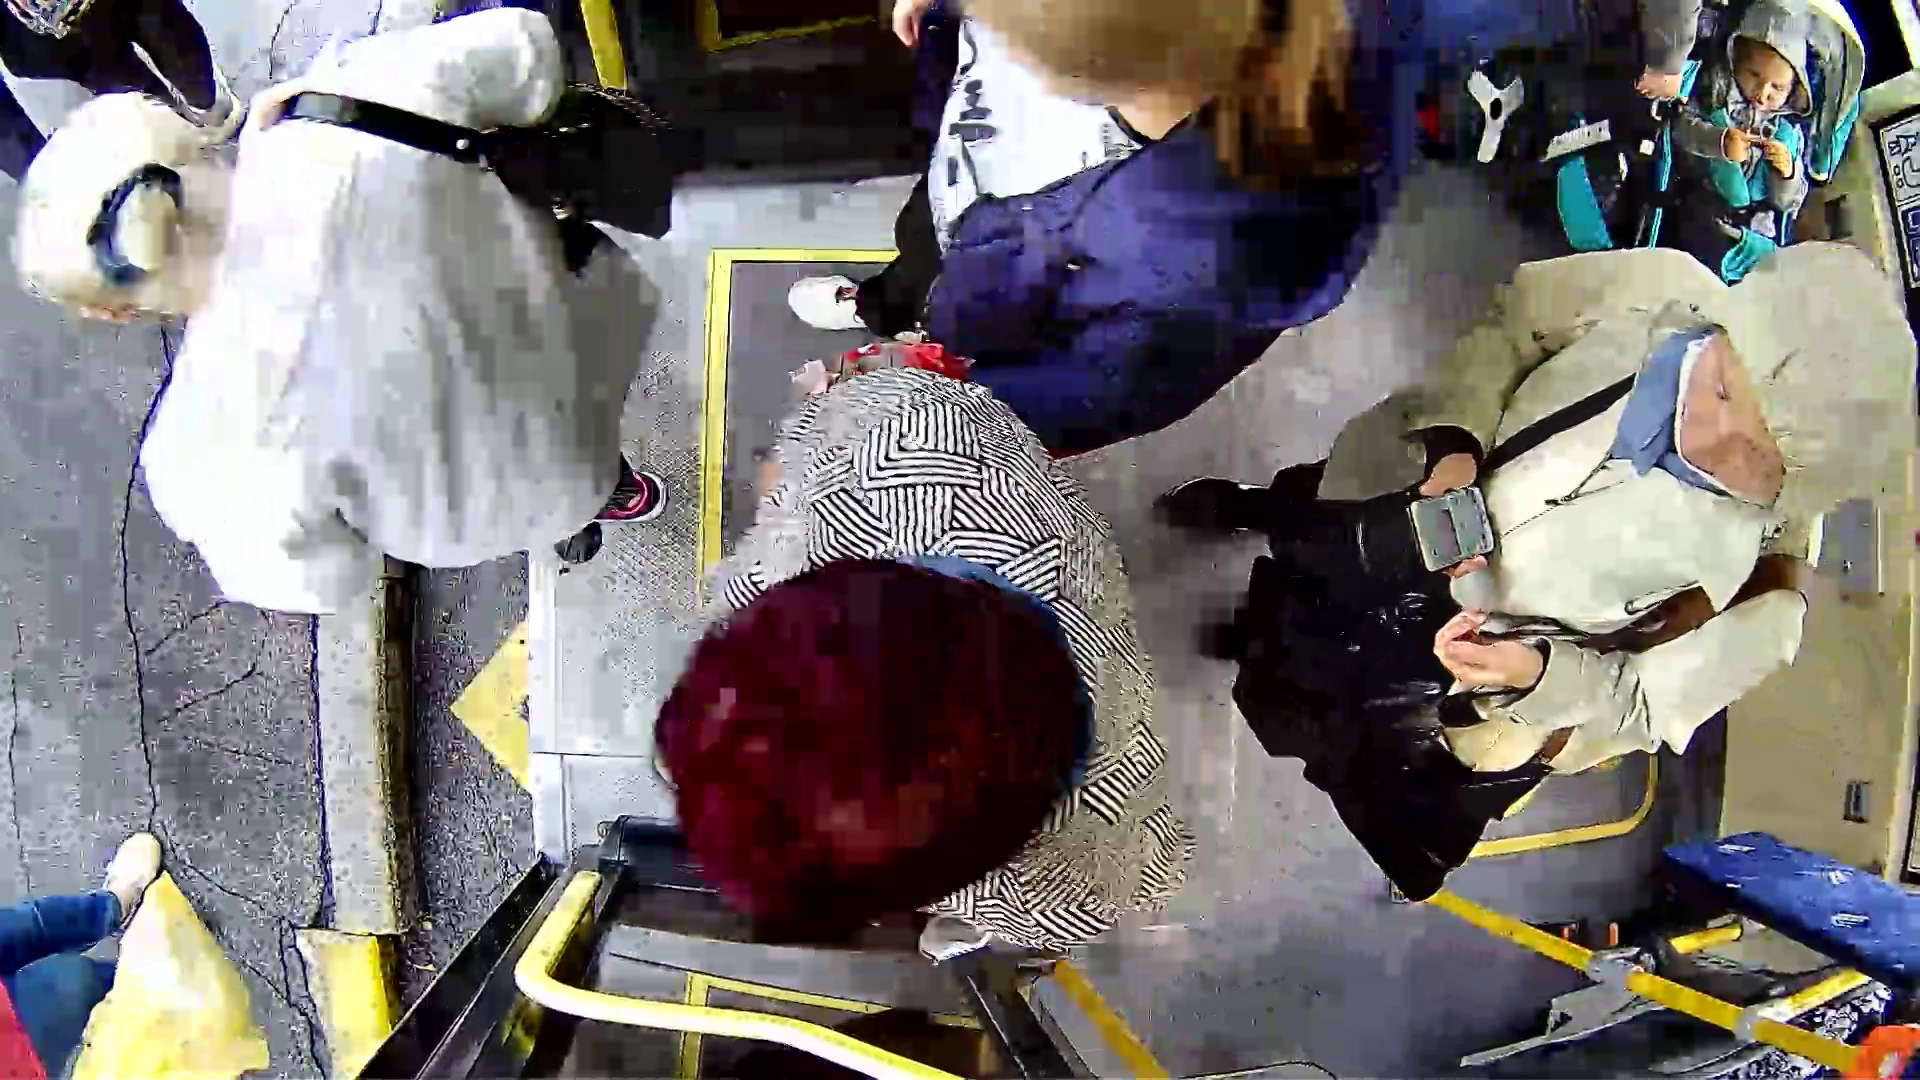person: (578, 308, 1215, 918), (56, 47, 705, 551), (1342, 253, 1878, 826), (814, 14, 1439, 413)
